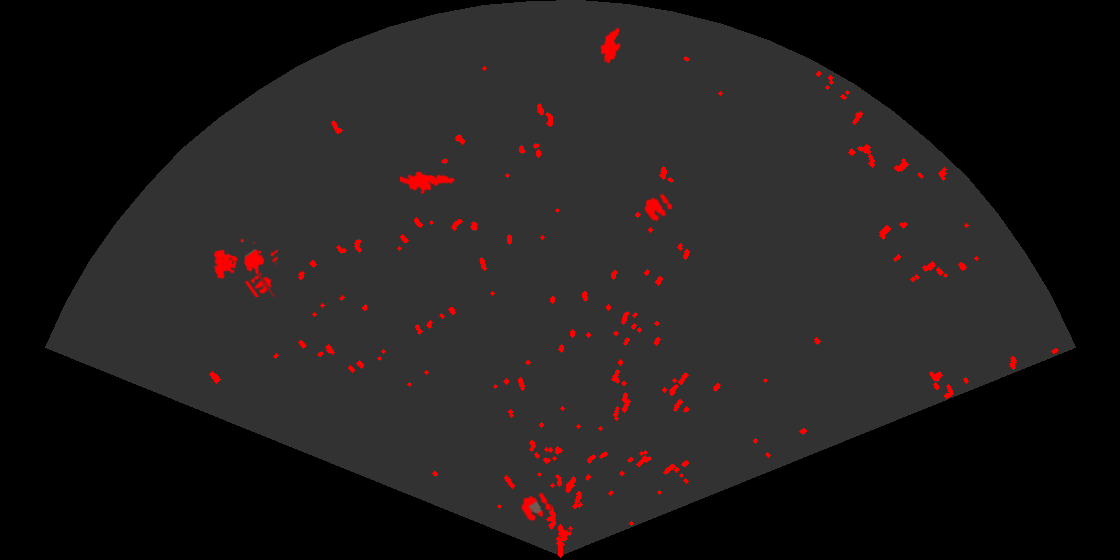AUV: (599, 26, 622, 65)
ball: (519, 491, 553, 523), (643, 192, 674, 223), (249, 271, 273, 295)
cage: (212, 237, 278, 297)
frogman: (400, 170, 456, 196)
